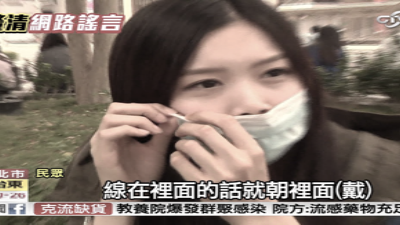mask_weared_incorrect: (170, 47, 314, 169)
